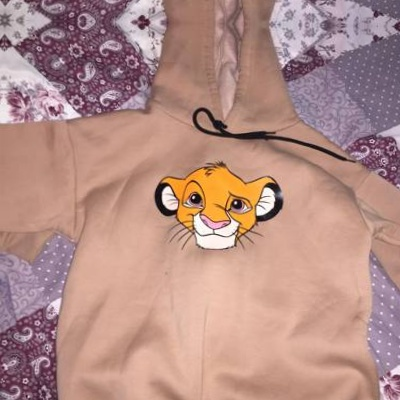Hoodie: (5, 22, 400, 400), (11, 0, 400, 24), (0, 0, 4, 17)
